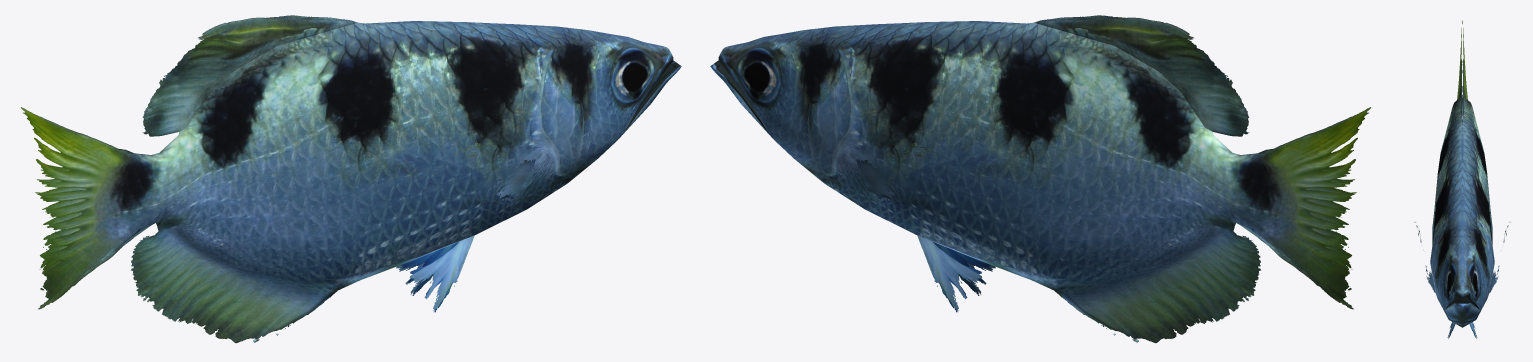
Rendered from SK_Archerfish.fbx.
The picture shows the model from 3 angles, left to right: view 1: azimuth 30°, elevation 25°; view 2: azimuth 150°, elevation 25°; view 3: azimuth 270°, elevation 25°; orthographic projection. The views are drawn at different scales.
Parts seen in each view (by area): view 1: SK_Archerfish; view 2: SK_Archerfish; view 3: SK_Archerfish.
Part boxes in pixels (left/top/right/bottom): SK_Archerfish: left=21, top=15, right=681, bottom=343; SK_Archerfish: left=710, top=15, right=1370, bottom=343; SK_Archerfish: left=1414, top=20, right=1510, bottom=338.
Size of the model in its own units: 94.48 by 47.27 by 21.18.
